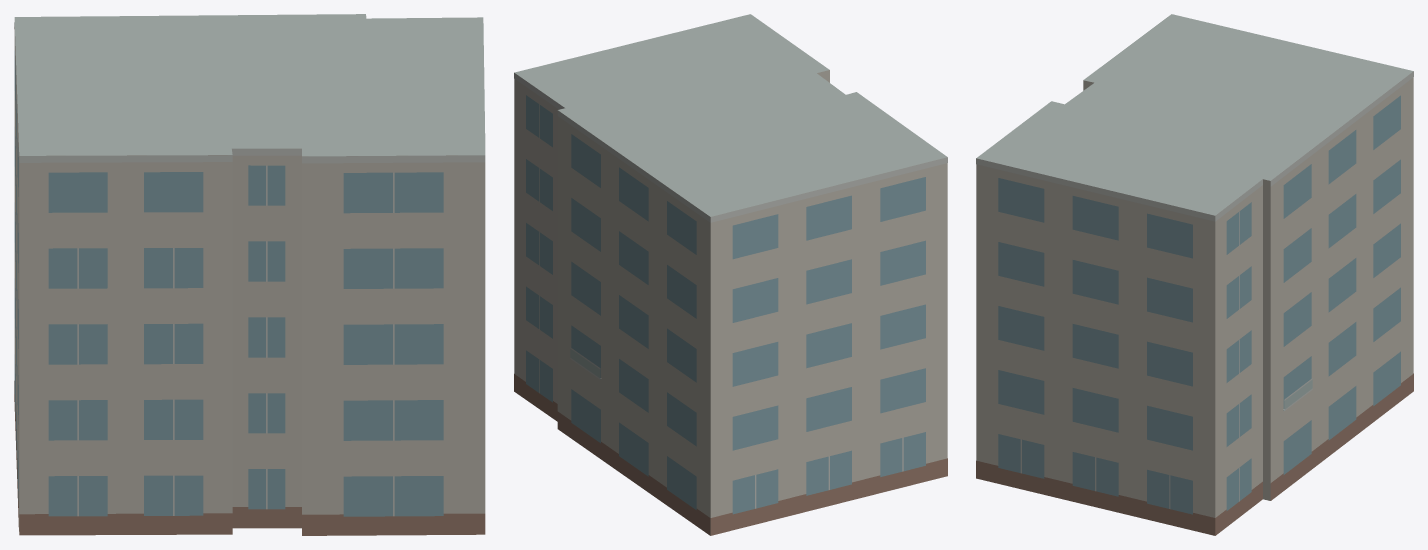
Rendered from survey-upis-33033466.glb.
3 views of the same model, side by side, from view 1: azimuth 30°, elevation 25°; view 2: azimuth 150°, elevation 25°; view 3: azimuth 270°, elevation 25° (orthographic). The views are drawn at different scales.
Visible parts, largest first — view 1: survey-upis-33033466.tmp; view 2: survey-upis-33033466.tmp; view 3: survey-upis-33033466.tmp.
Part boxes in pixels (<box>): survey-upis-33033466.tmp: <box>14,14,485,535</box>; survey-upis-33033466.tmp: <box>514,14,947,535</box>; survey-upis-33033466.tmp: <box>976,14,1413,535</box>.
Bounding box in the file's own units: 17.85 × 13.2 × 16.36.
